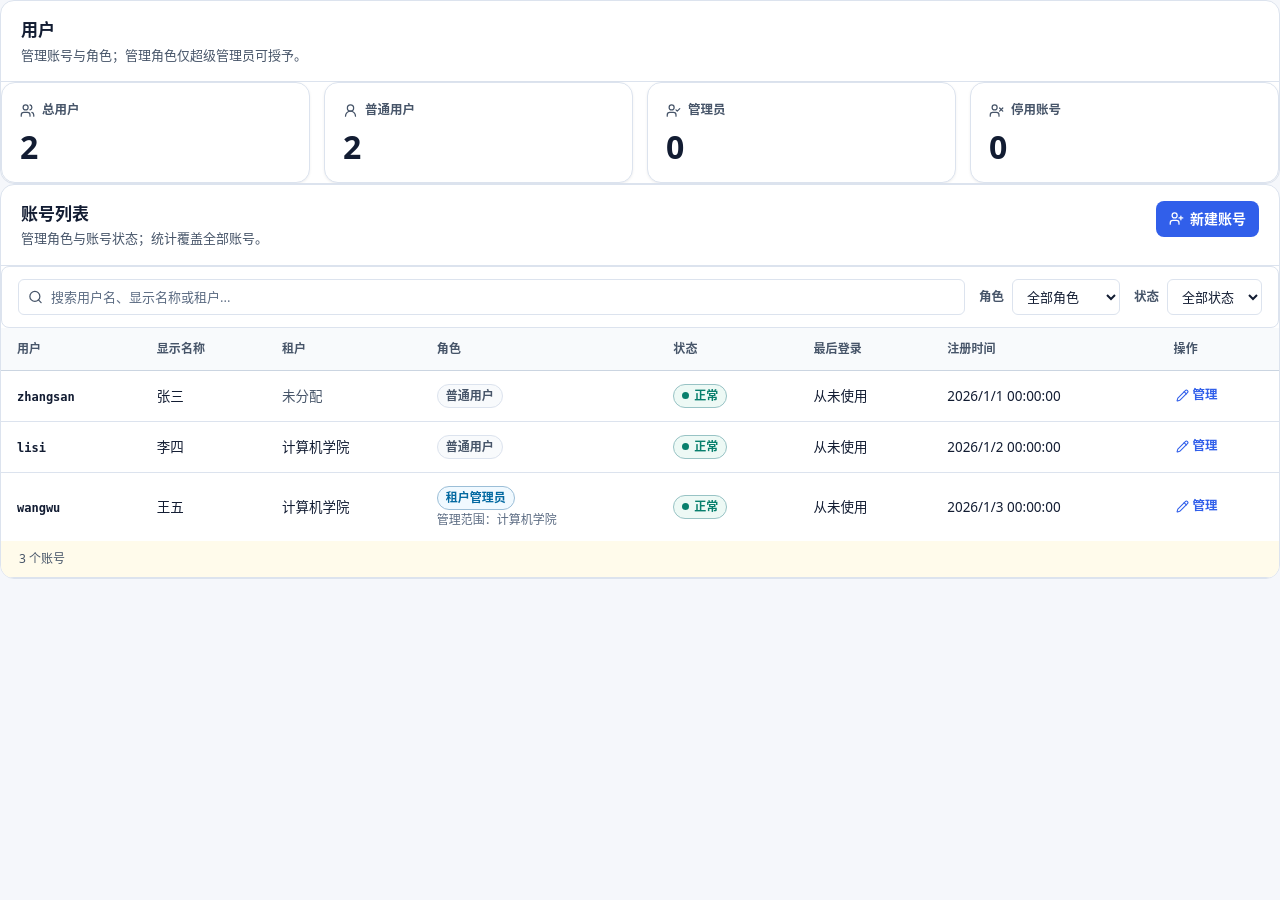
it: UsersPage create account › reports a taken username instead of closing silently
Click the button "新建账号" at [1208, 219], box [1156,201,1259,237]
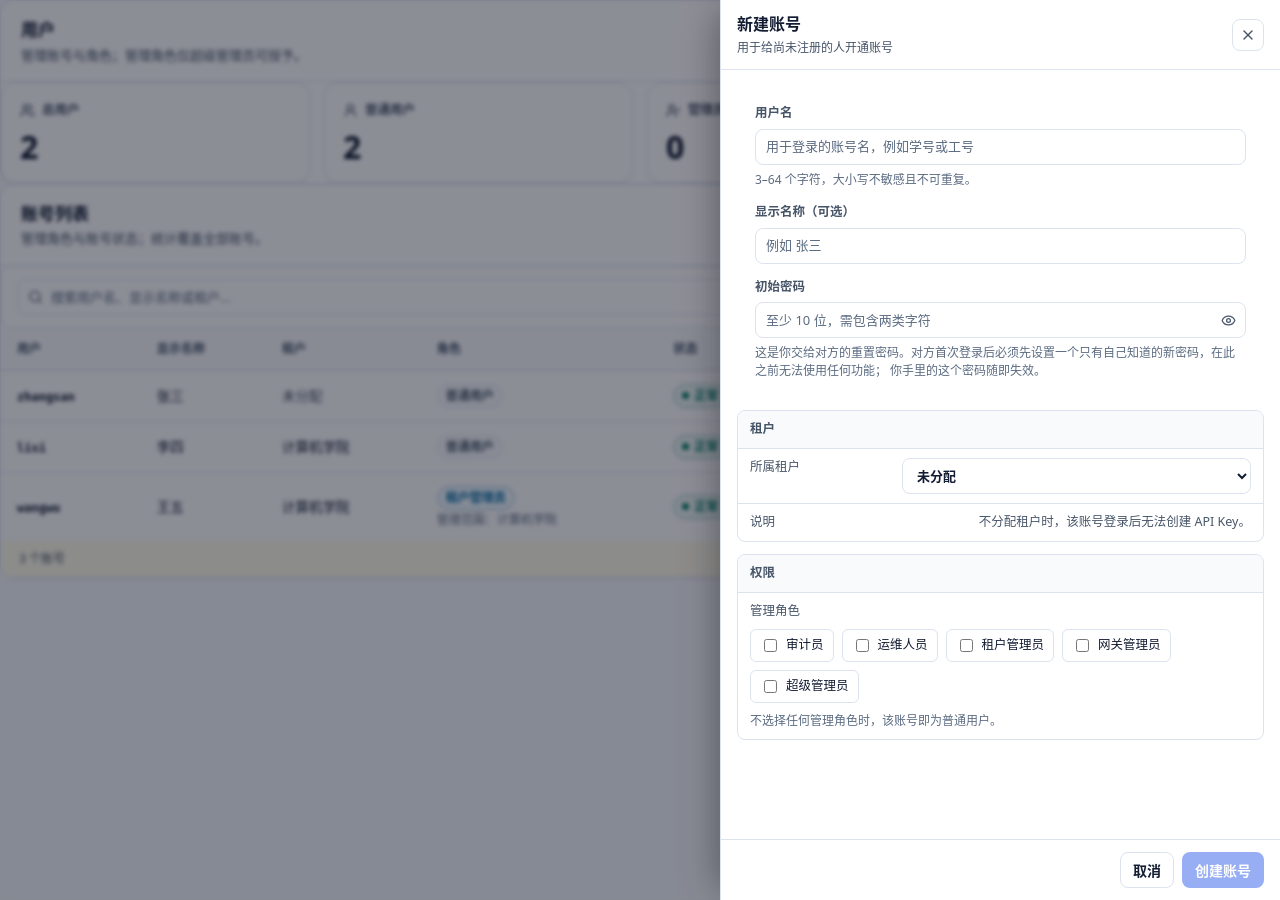
Type "zhangsan" into the field with placeholder "用于登录的账号名，例如学号或工号" at [1000, 147], box [755,129,1246,165]
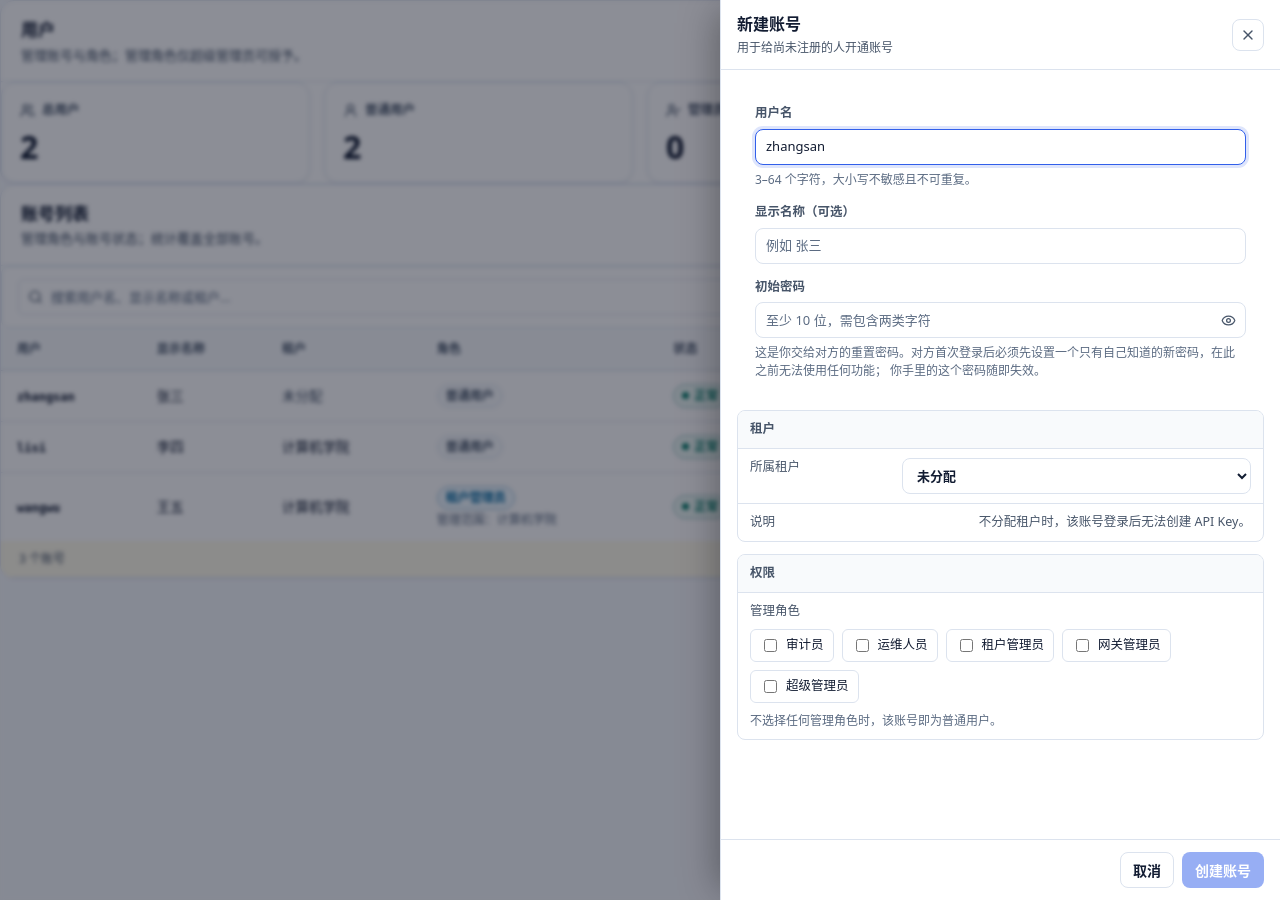
Type "Interim#2026New" into the password field with placeholder "至少 10 位，需包含两类字符" at [1000, 320], box [755,302,1246,338]
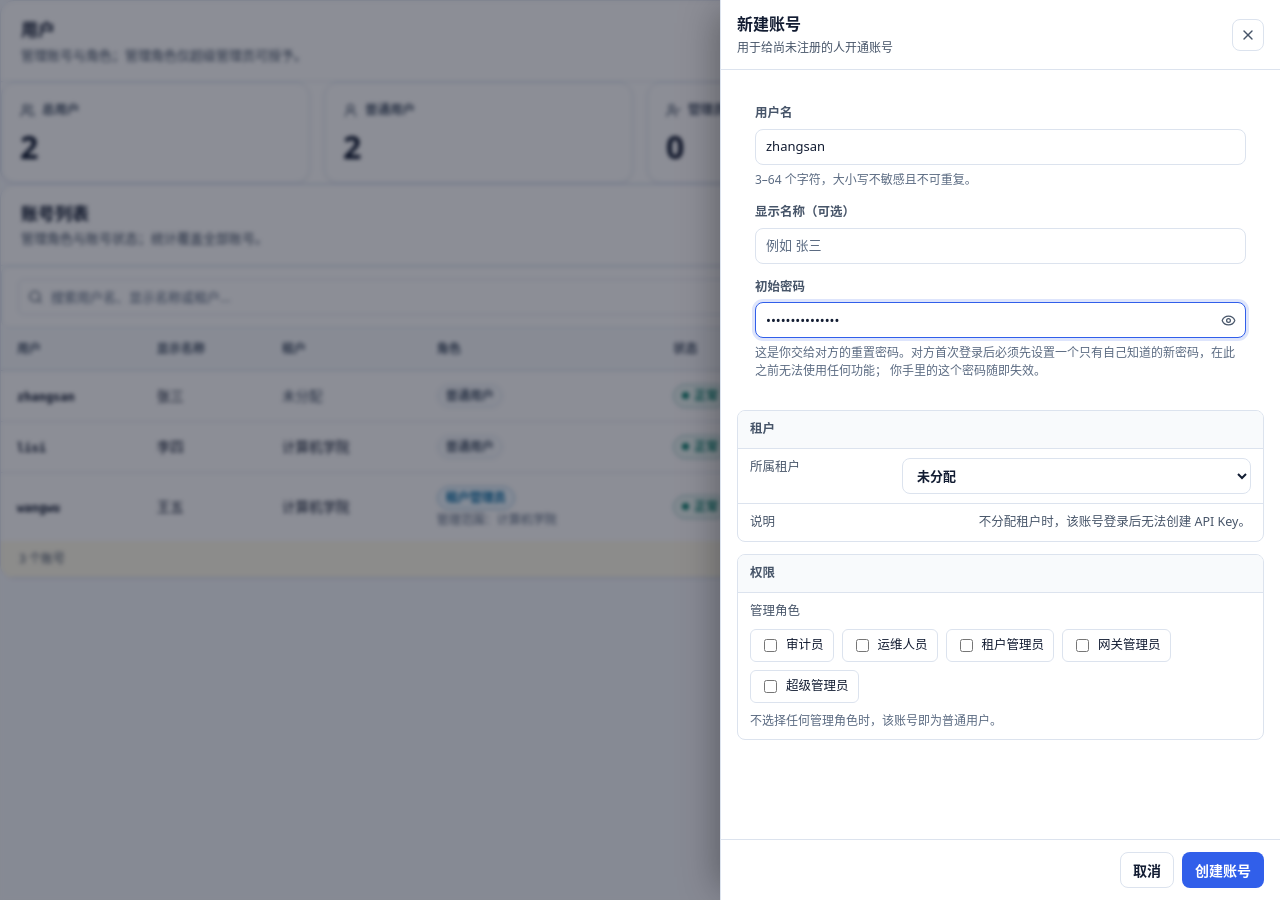
Click the button "创建账号" at [1223, 870], box [1182,852,1264,888]
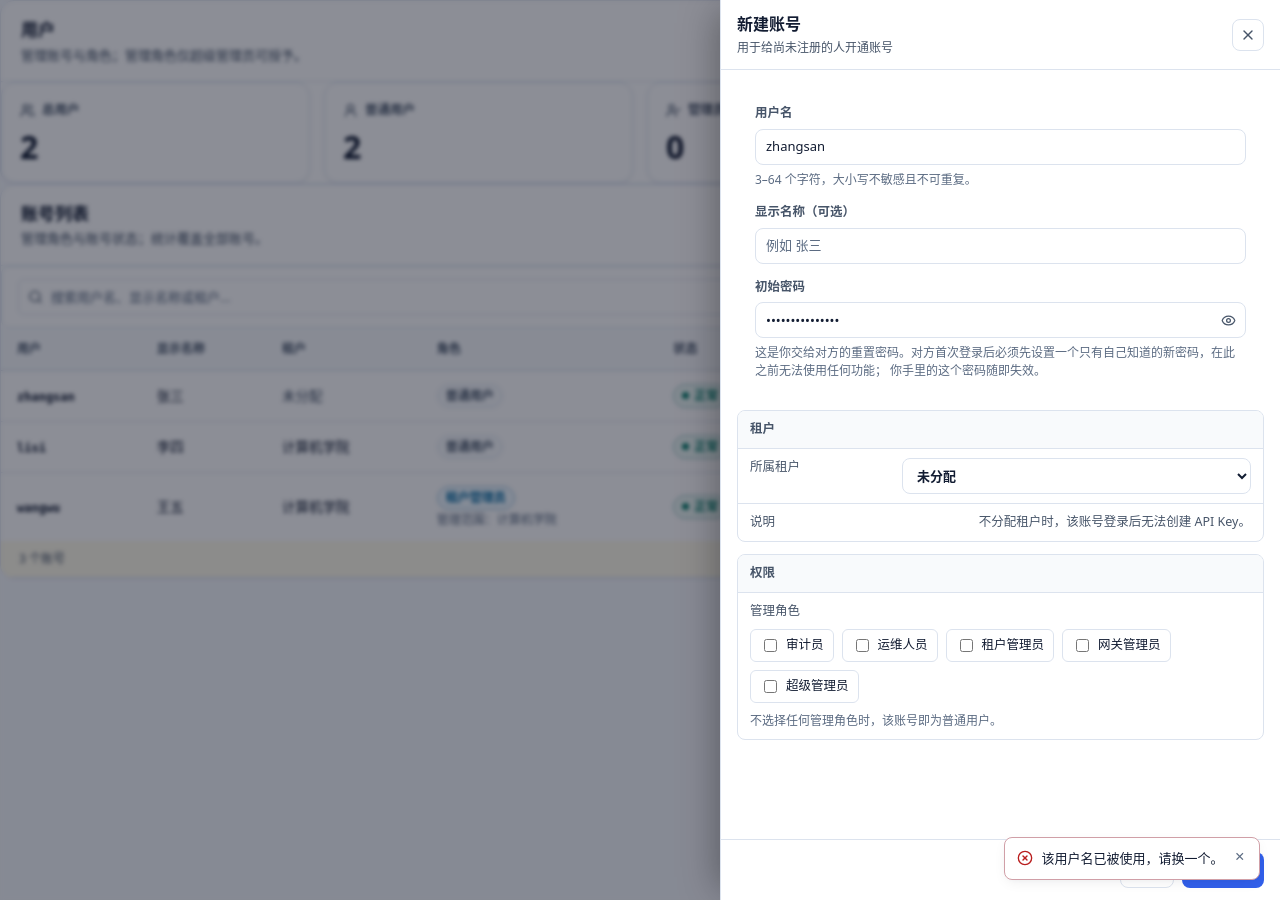
Now the text "该用户名已被使用，请换一个。" is shown, box [1042,848,1224,868]
